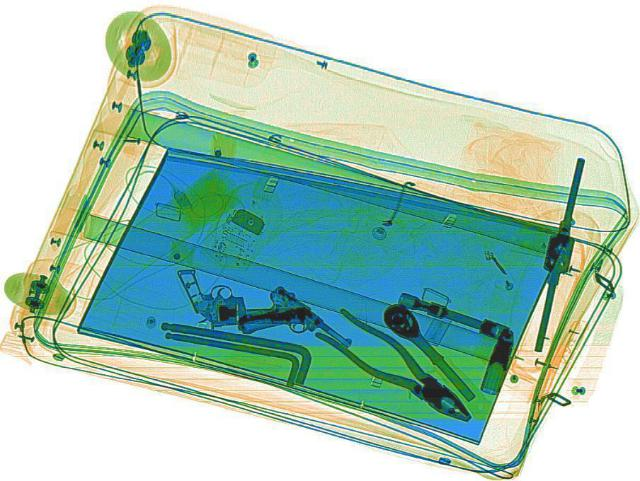Gun: (222, 282, 354, 374), (174, 266, 314, 325)
Pliers: (306, 303, 490, 432)
